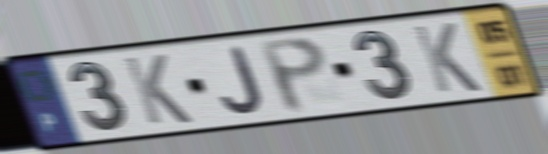3: (351, 27, 414, 105), (66, 58, 129, 136)
J: (219, 45, 266, 117)
K: (408, 20, 486, 96), (119, 52, 196, 127)
P: (254, 33, 330, 116)
